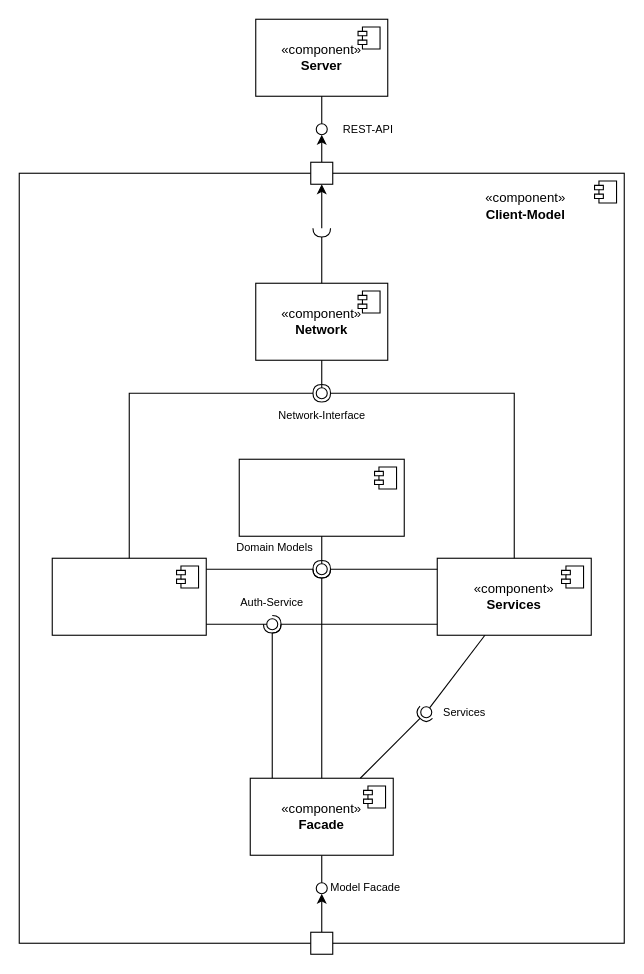
This 644x974 diagram has some shape labels left out. The centre of each missing label's shape, as x and y in pixels:
«component» Authentication: the point at 128,596
«component» Domain: the point at 321,497
